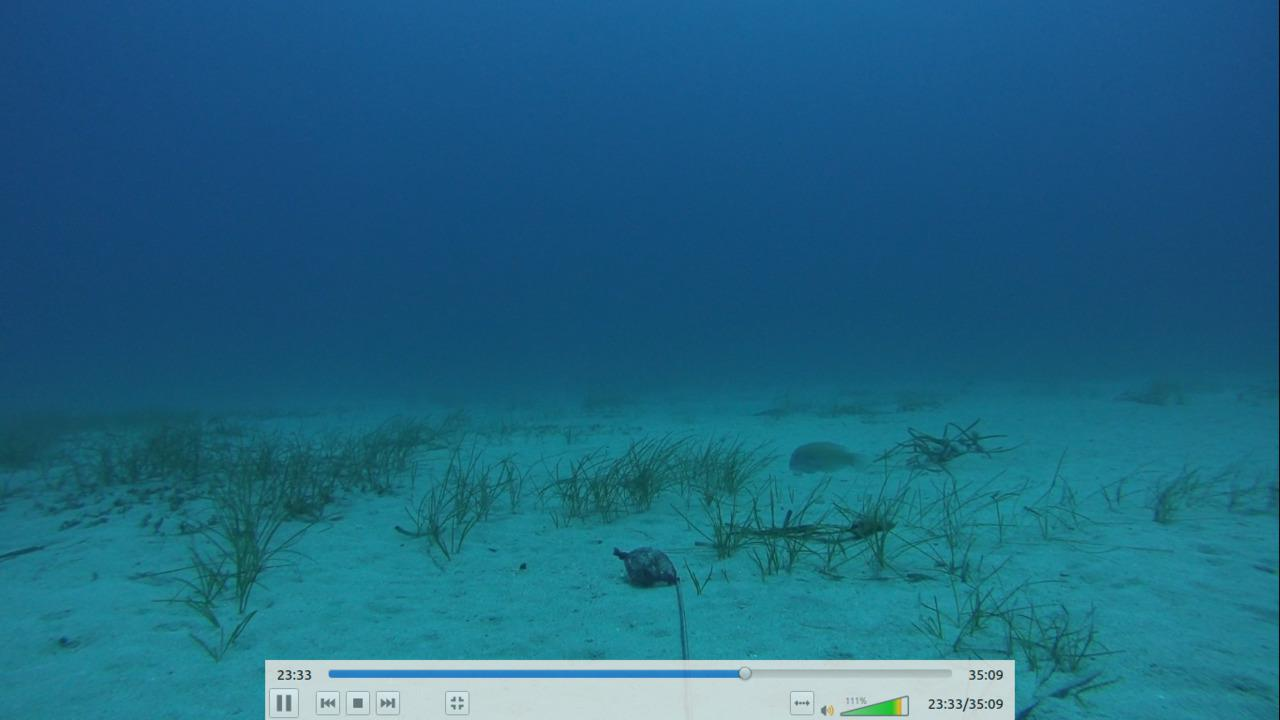raor: (786, 436, 872, 480)
